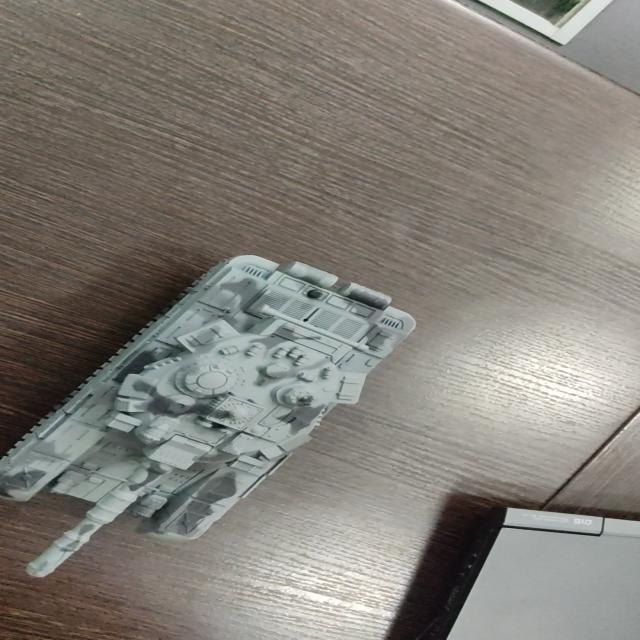tank: (0, 256, 422, 577)
